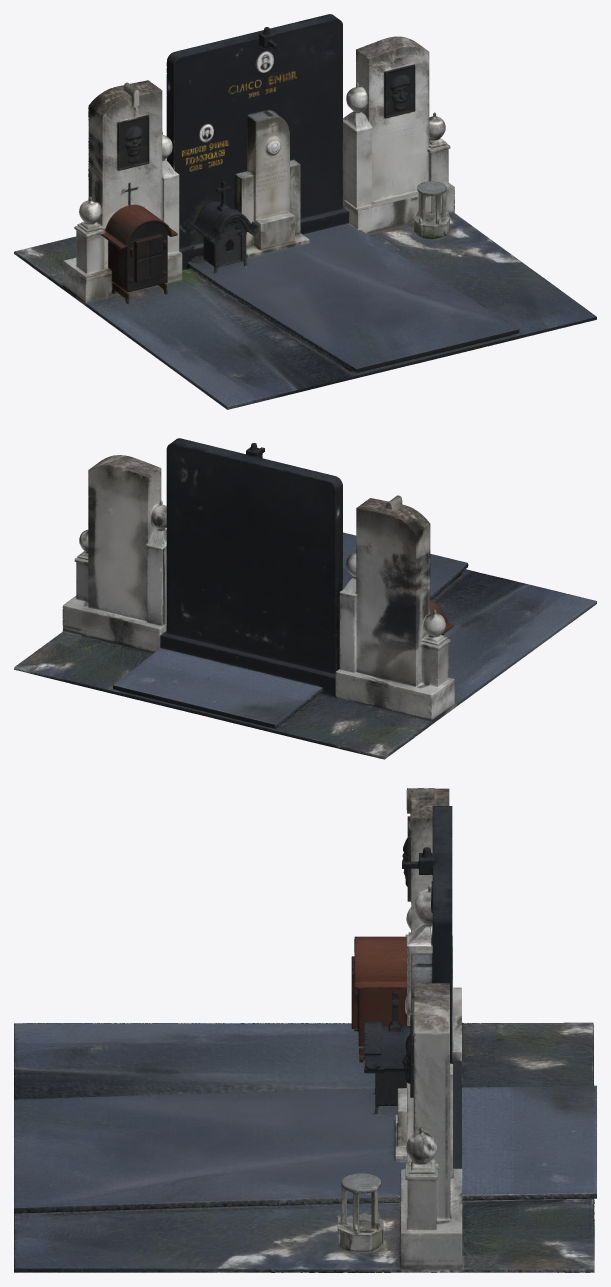
File: Simo Brkic.glb
3 renders of one model, top to bottom at view 1: azimuth 30°, elevation 25°; view 2: azimuth 150°, elevation 25°; view 3: azimuth 270°, elevation 25°, orthographic. The views are drawn at different scales.
Bounding box in the file's own units: 1.9 × 1.1 × 1.9.
1 material, 1 textured.
